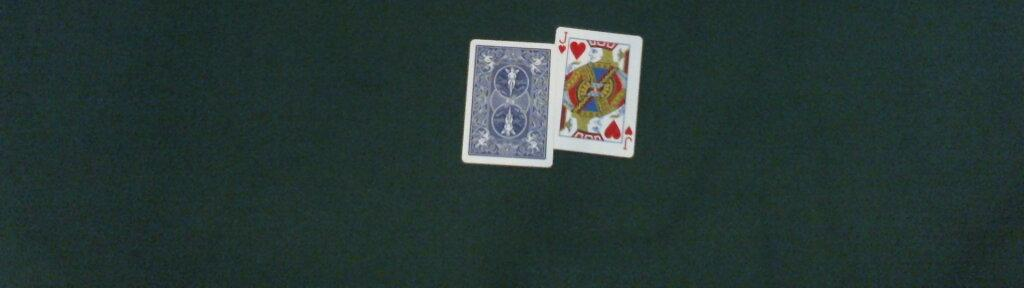back: (461, 39, 559, 168)
jack: (555, 25, 643, 157)
